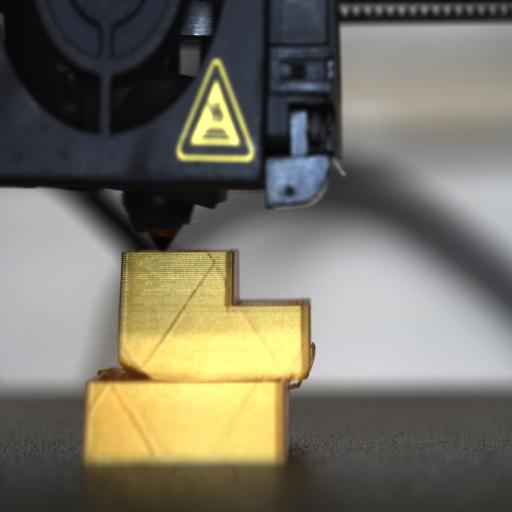layer_shift: (83, 361, 312, 388)
